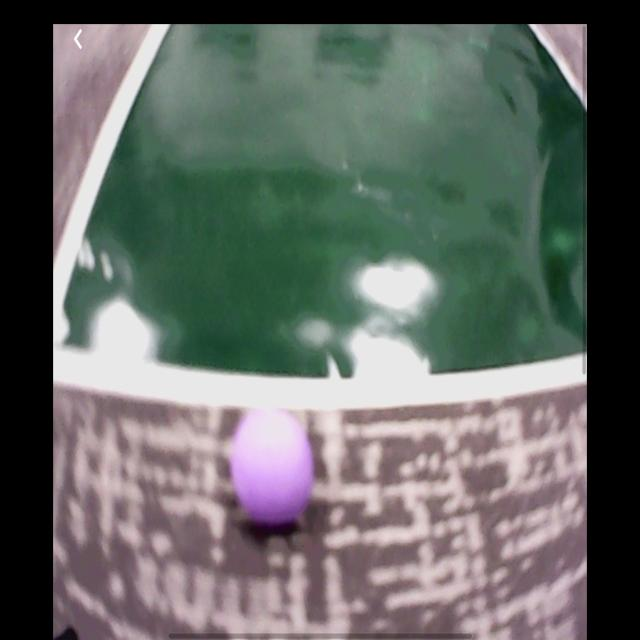ball: (229, 408, 316, 529)
